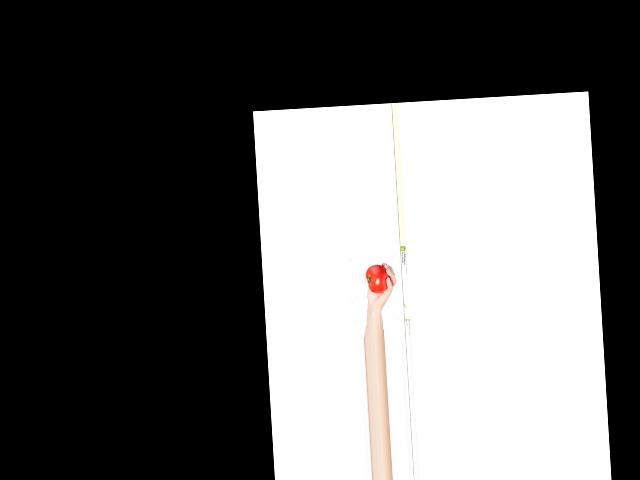tomato: (365, 264, 390, 294)
